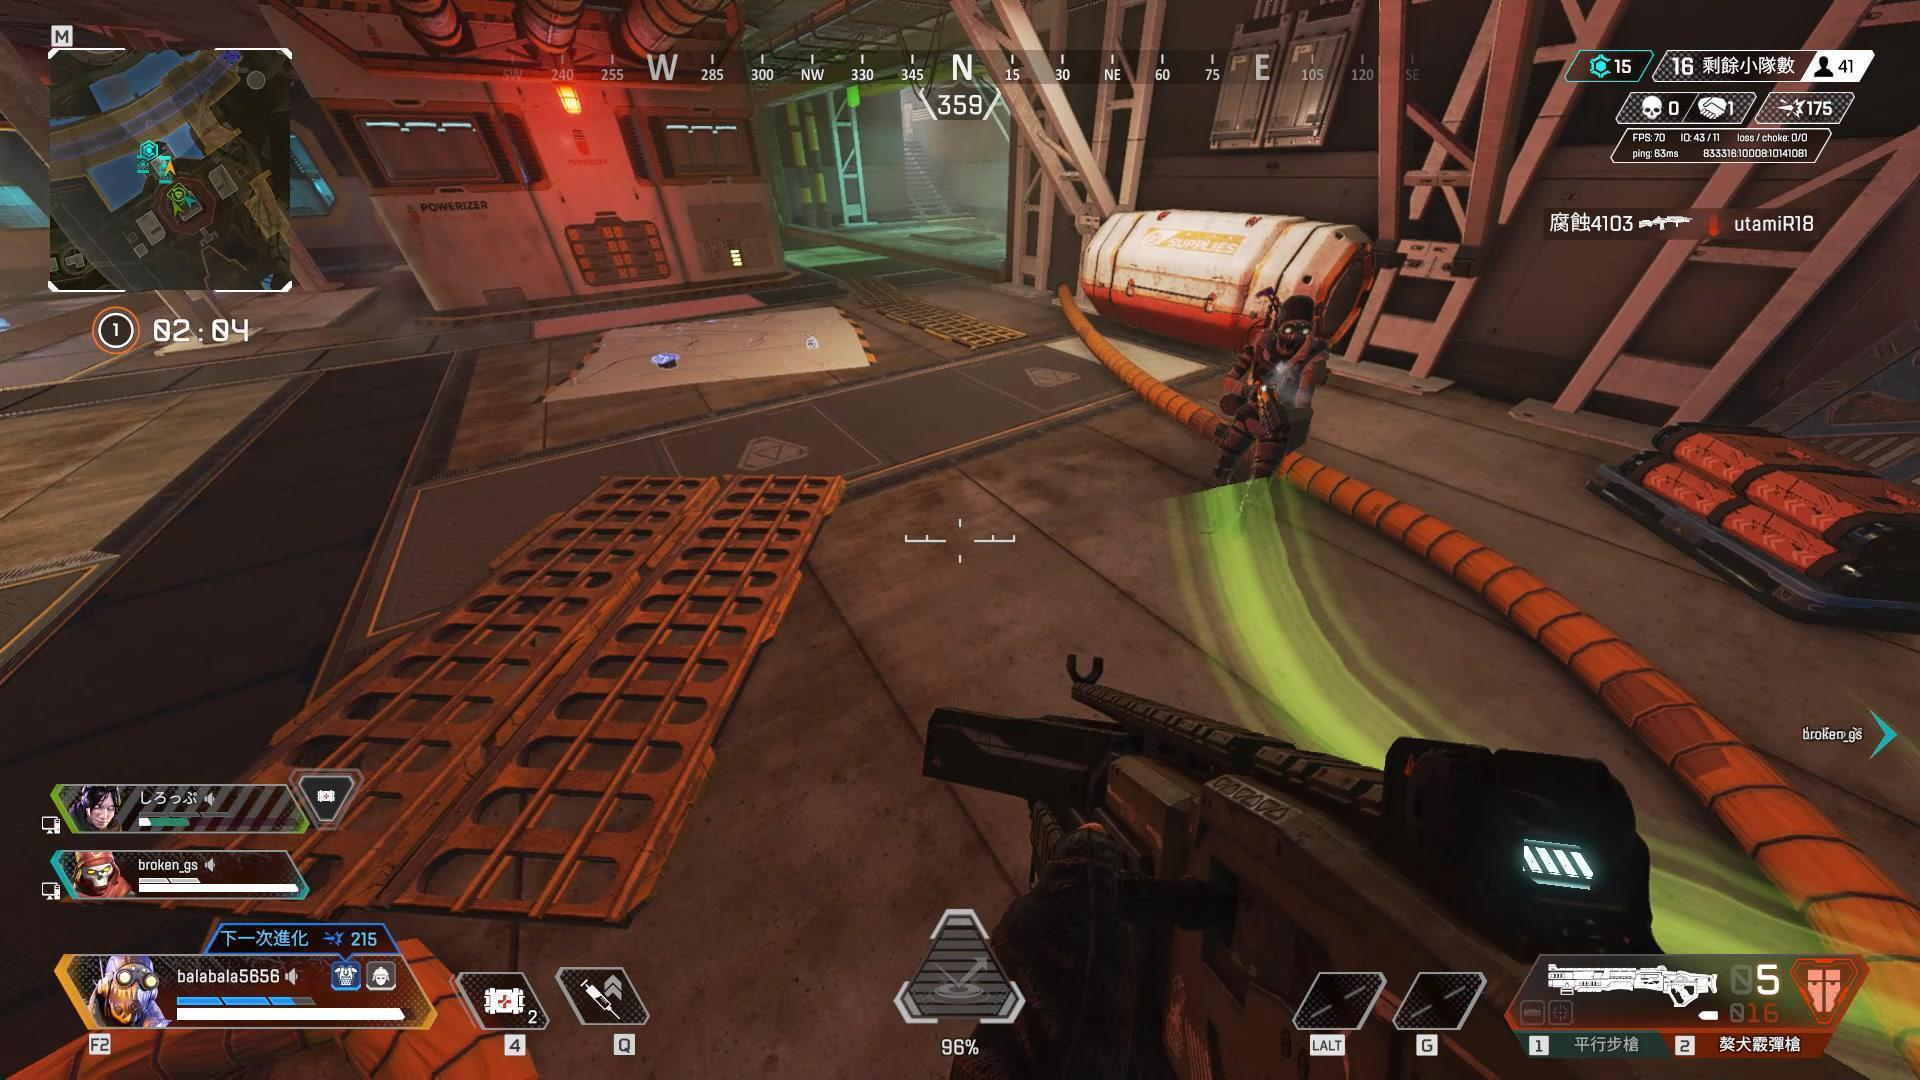avatar: (1209, 290, 1333, 492)
